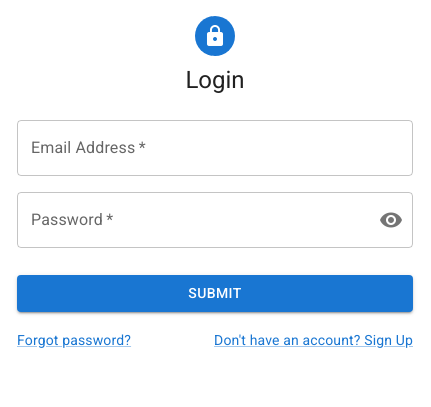
Test case: show all errors
The image size is (431, 407).
What coordinates should you click on to do the following:
click the button "Submit"
I would click on:
 (215, 293)
Its box is [17,275,413,312].
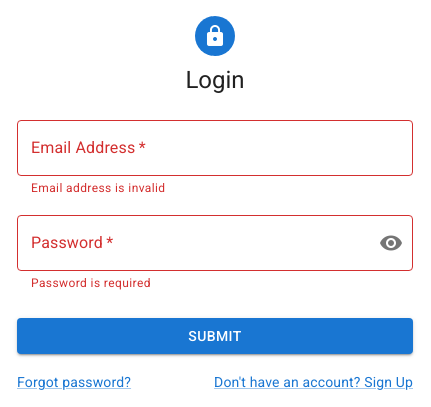
Expected: the link "Forgot password?" is shown, [17,374,131,390]
Now the text "Email address is invalid" is shown, box [31,181,166,195]
Now the text "Password is required" is shown, box [31,276,151,290]
